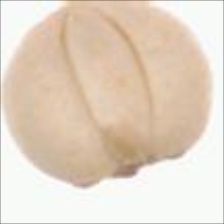L5: (60, 4, 156, 158), (65, 150, 188, 193)
L6: (1, 1, 217, 195)
